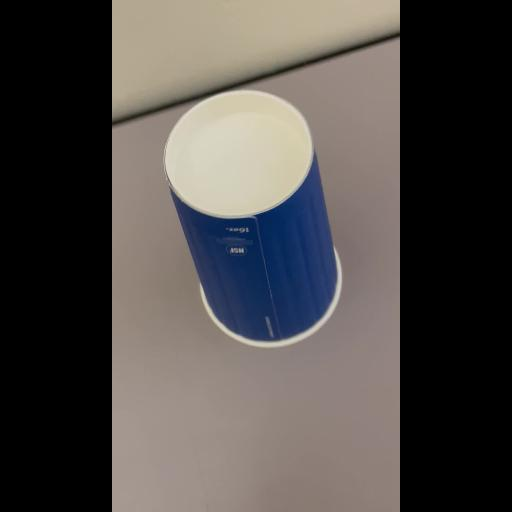lp_paper_cup: (162, 90, 344, 346)
